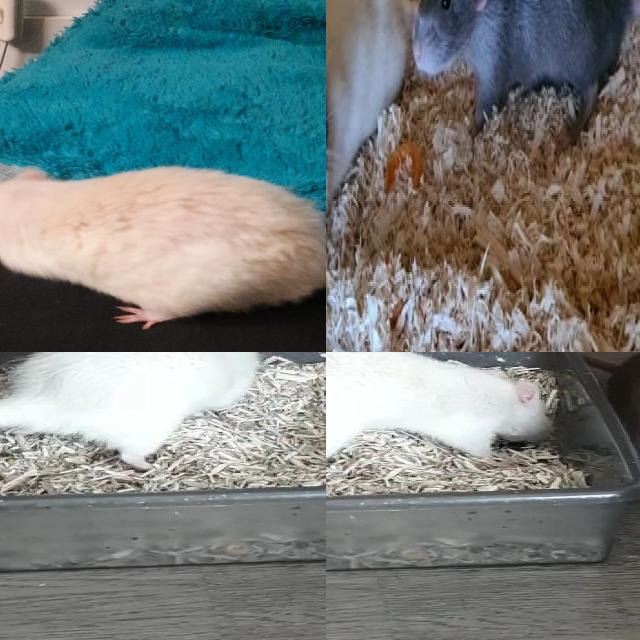rat: (0, 162, 326, 332), (0, 352, 272, 474), (326, 352, 568, 482), (412, 0, 627, 131), (326, 0, 404, 252)
